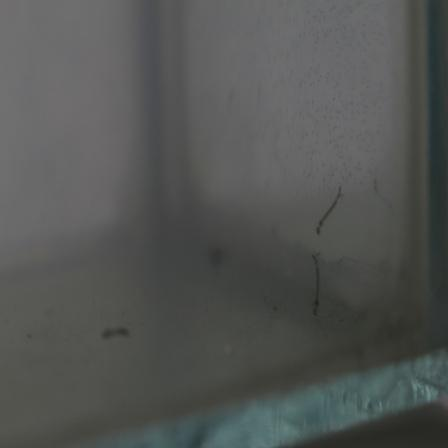Jentik-Nyamuk: (314, 183, 346, 232), (308, 248, 326, 318)
